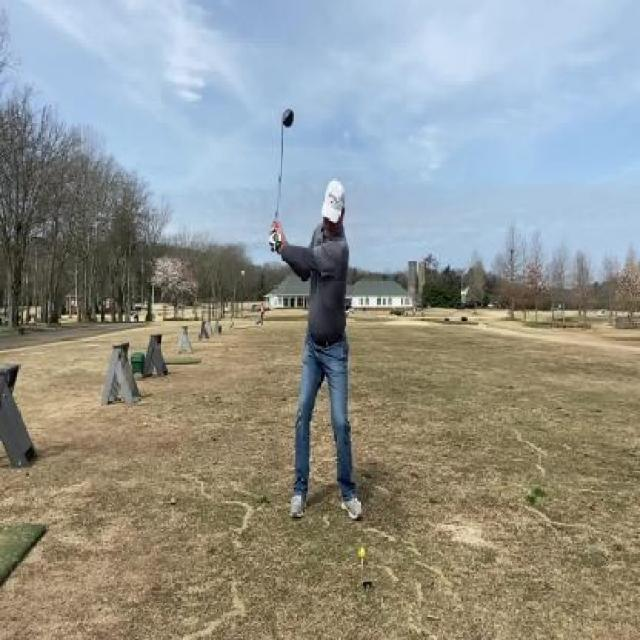club head: (280, 108, 294, 130)
